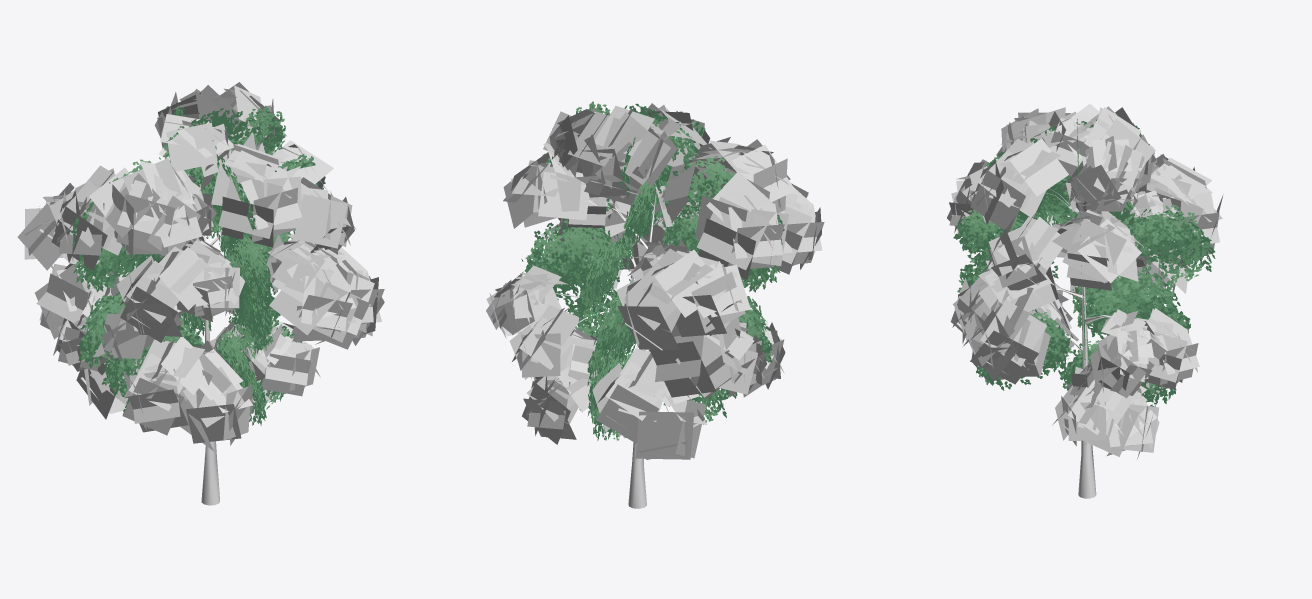
Rendered from Tree4_MidBlend.fbx.
3 views of the same model, side by side, from view 1: azimuth 30°, elevation 25°; view 2: azimuth 150°, elevation 25°; view 3: azimuth 270°, elevation 25° (orthographic). The views are drawn at different scales.
Visible parts, largest first — view 1: Tree4_Low.001; view 2: Tree4_Low.001; view 3: Tree4_Low.001.
Part boxes in pixels (left/top/right/bottom): Tree4_Low.001: left=17, top=82, right=384, bottom=505; Tree4_Low.001: left=486, top=101, right=824, bottom=508; Tree4_Low.001: left=947, top=104, right=1222, bottom=498.
Size of the model in its own units: 560 by 562 by 560.
